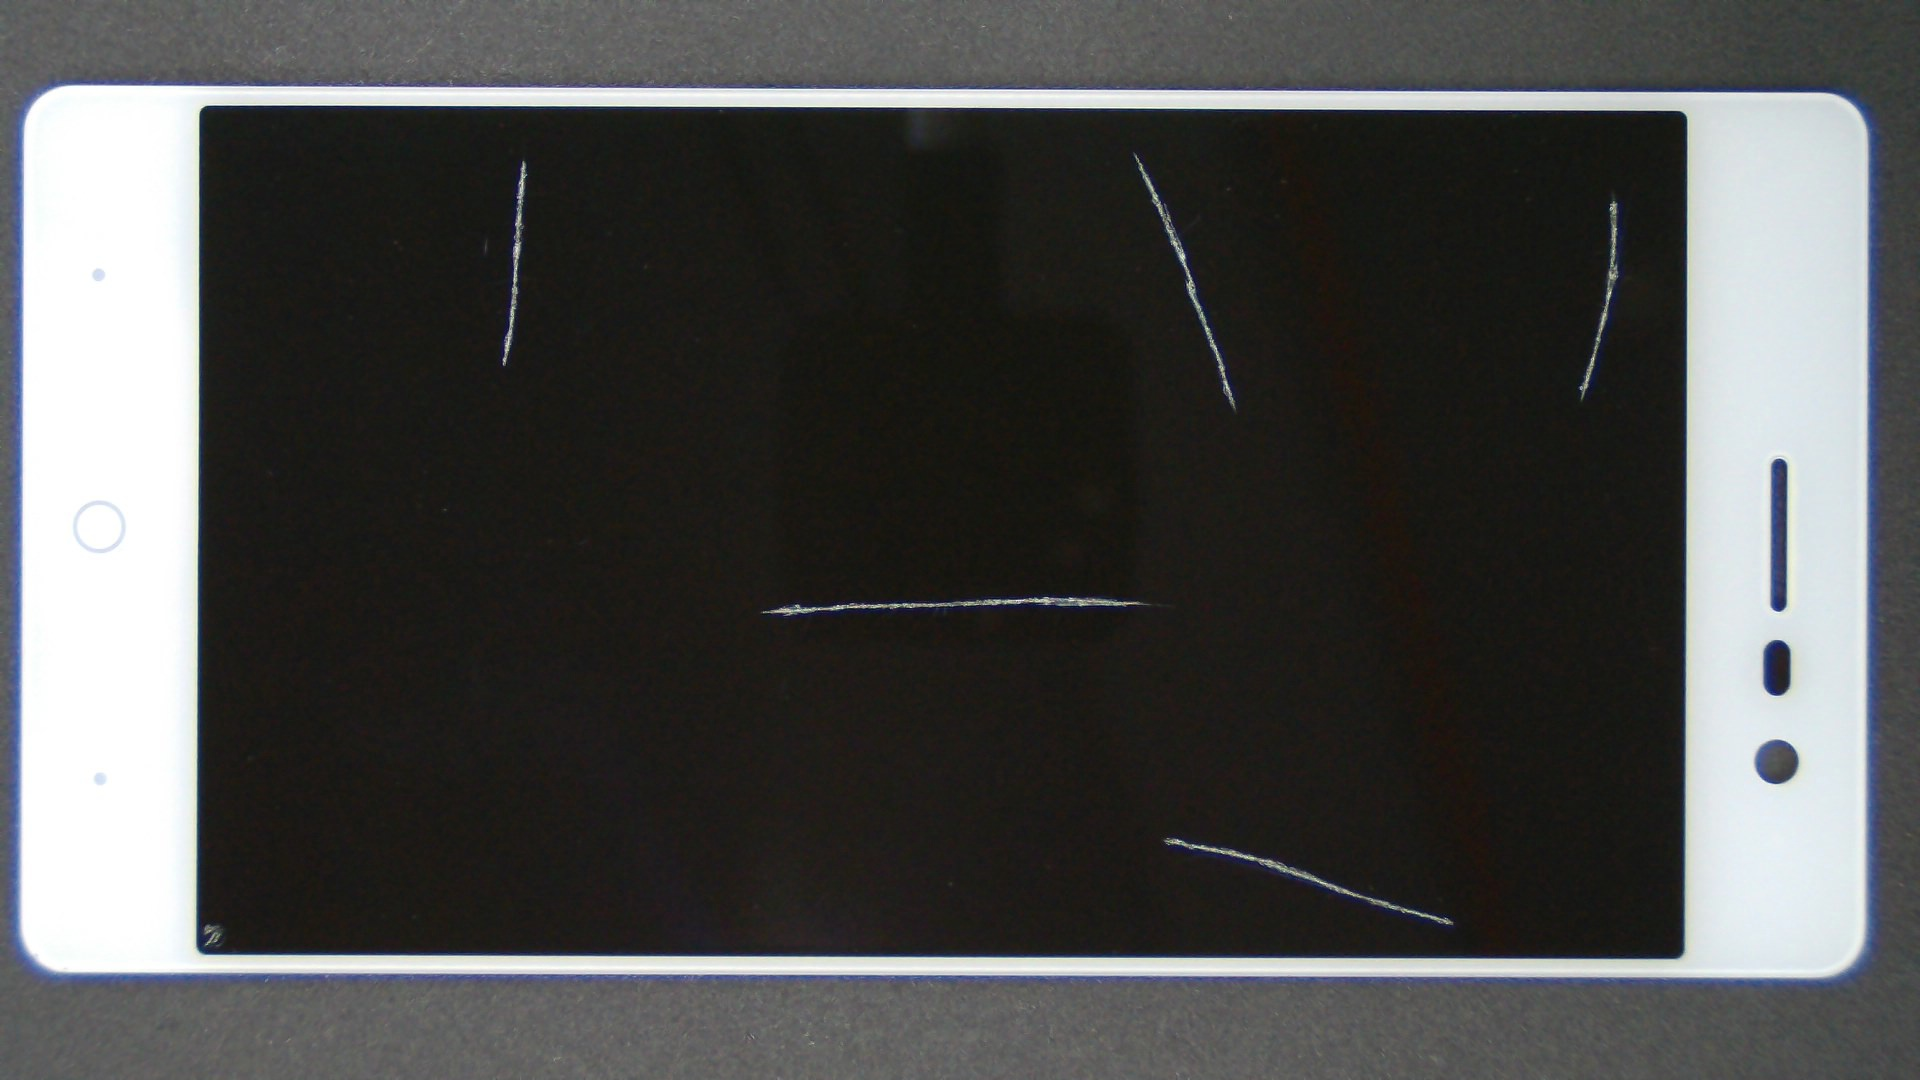oil: (583, 418, 1749, 1080), (524, 298, 1567, 895), (807, 95, 1920, 287), (566, 75, 1698, 228), (105, 459, 310, 1080), (262, 79, 785, 240)
